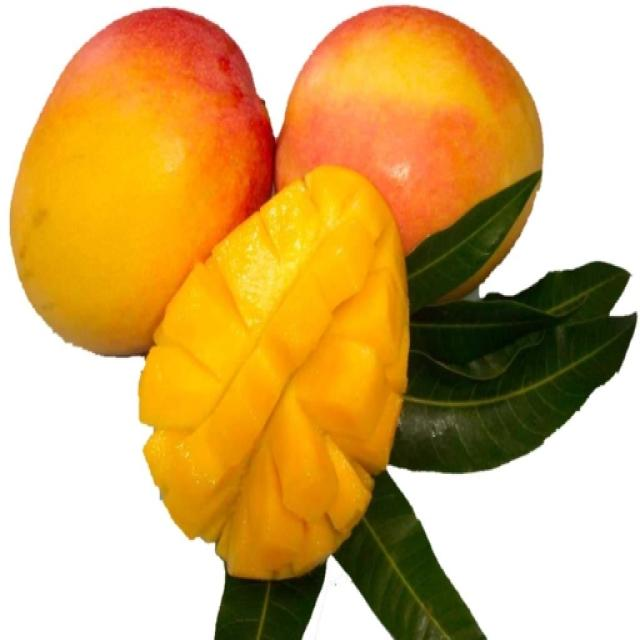mango: (6, 8, 278, 361), (268, 1, 544, 275)
